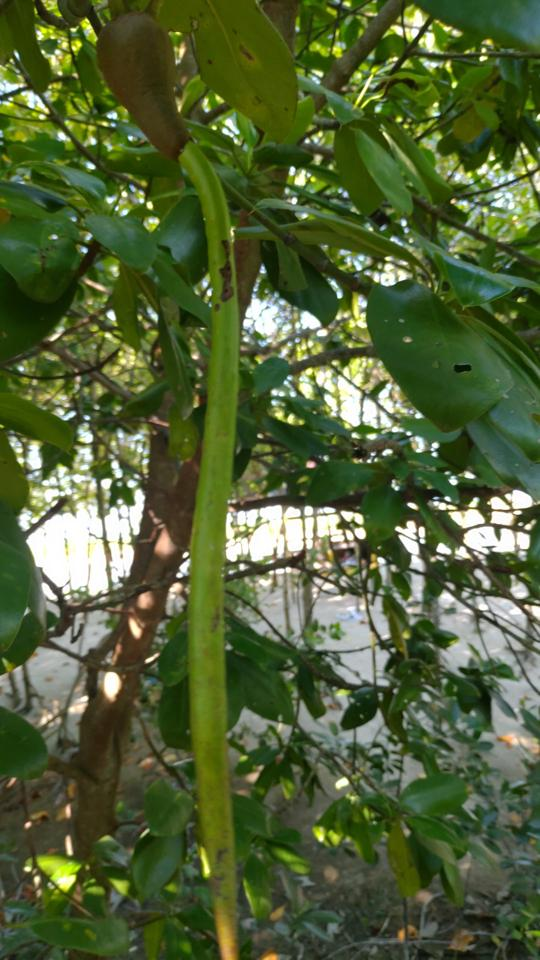mentah: (89, 1, 271, 959)
